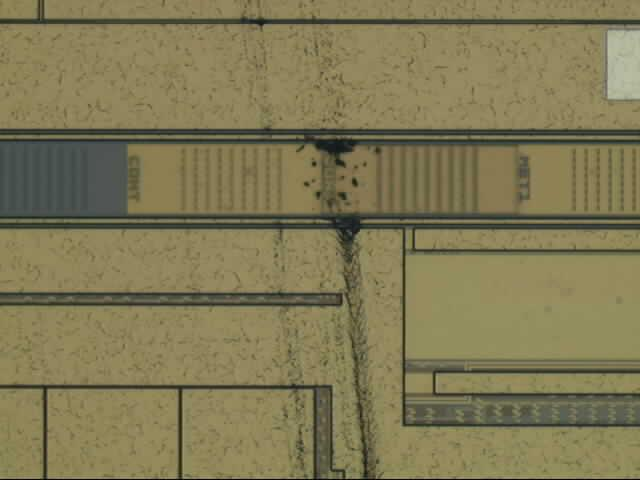SCRATCH: (234, 2, 407, 480)
